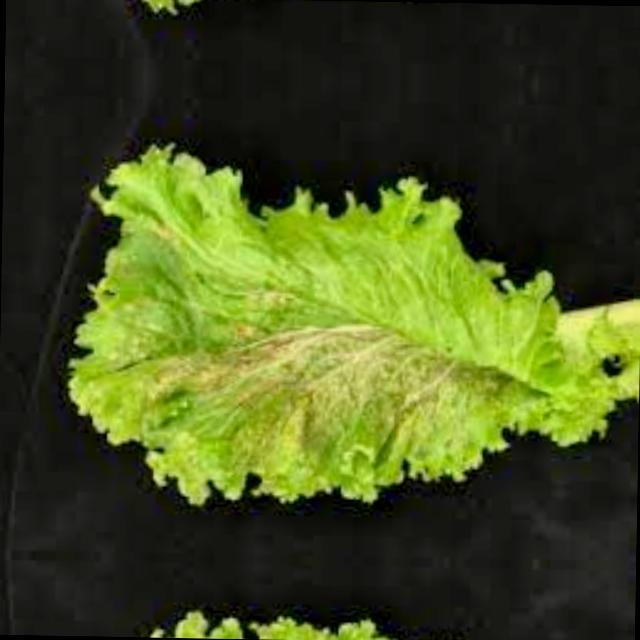Lettuce - Anthracnose: (61, 135, 640, 505), (58, 614, 633, 640), (69, 0, 640, 25)
